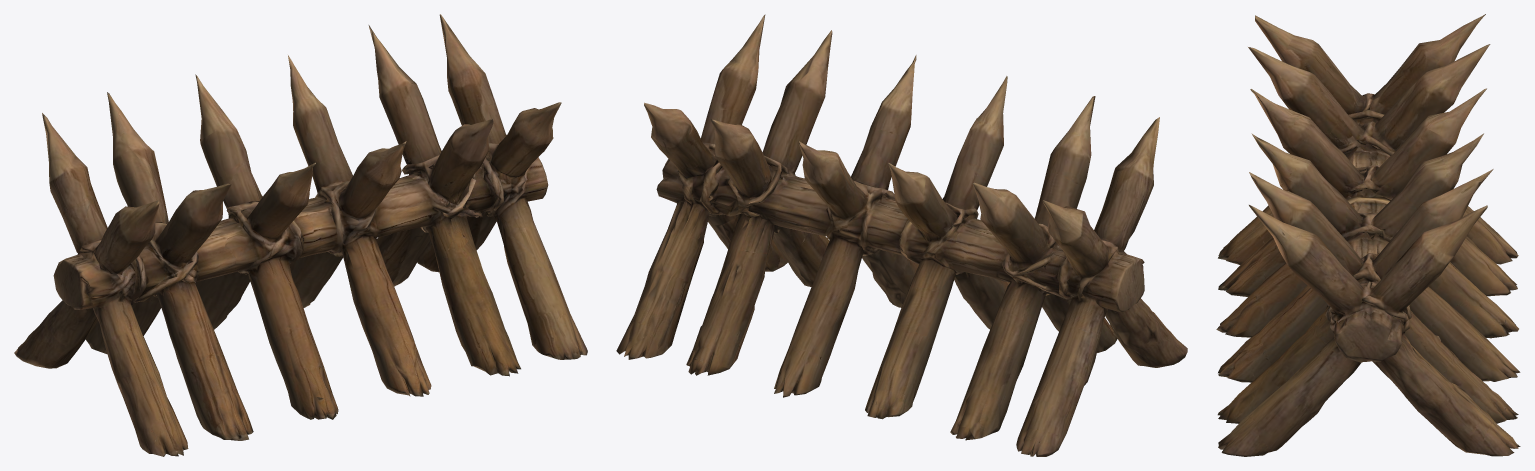
File: stakes.glb
3 views of the same model, side by side, from view 1: azimuth 30°, elevation 25°; view 2: azimuth 150°, elevation 25°; view 3: azimuth 270°, elevation 25° (orthographic).
Bounding box in the file's own units: 2 × 1.03 × 1.16.
1 material, 1 textured.
